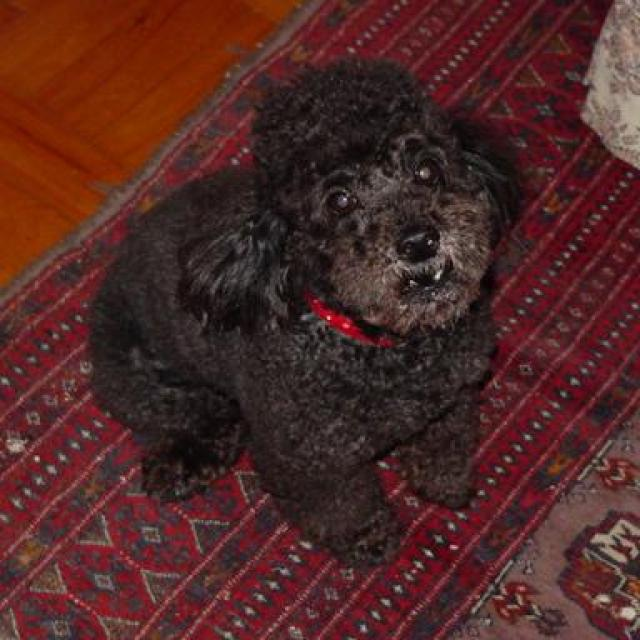angry: (82, 31, 555, 586)
